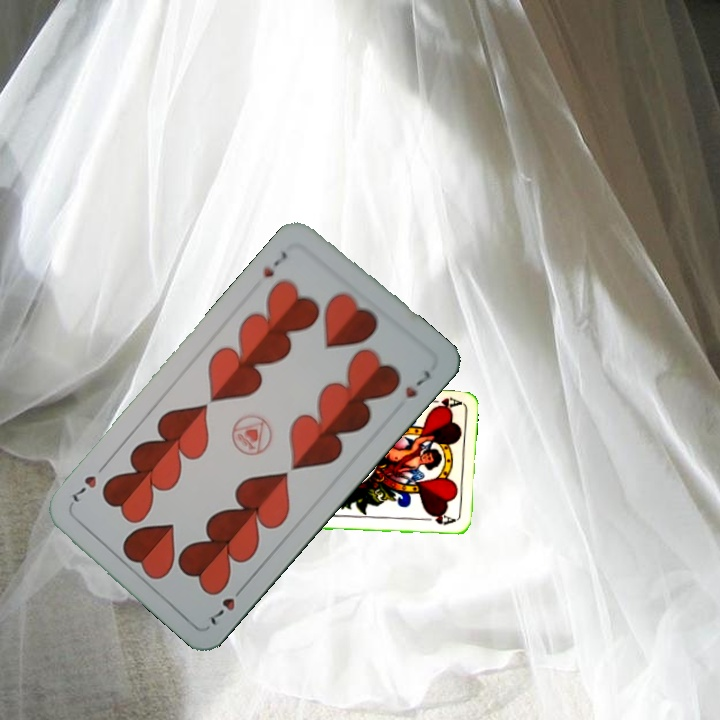H7: (205, 580, 248, 629), (259, 247, 291, 281)
HA: (422, 393, 463, 411)
